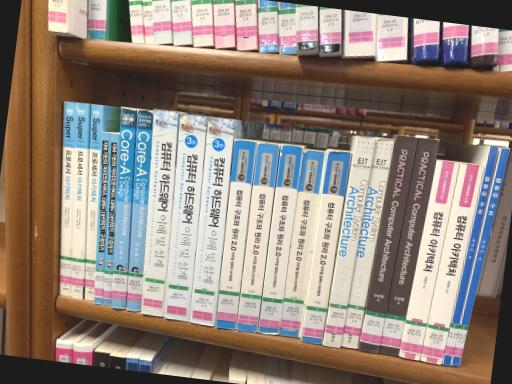book-spine: (379, 137, 440, 356), (451, 148, 510, 365), (420, 162, 483, 364), (359, 135, 417, 353), (442, 146, 498, 366), (399, 160, 460, 360), (341, 137, 394, 349), (323, 136, 375, 348), (300, 151, 351, 343), (190, 116, 235, 326), (165, 113, 207, 321), (258, 144, 304, 333), (279, 149, 325, 338), (215, 140, 257, 329), (141, 109, 179, 316), (238, 142, 279, 332), (126, 109, 153, 311), (111, 107, 137, 309), (84, 104, 103, 300), (59, 101, 77, 296), (71, 103, 89, 298), (102, 132, 120, 305), (94, 131, 111, 303)
